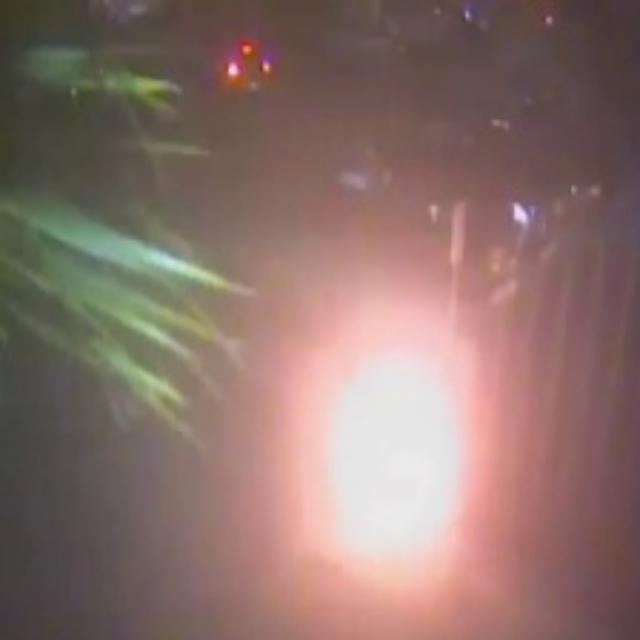fire: (342, 362, 453, 554)
smoke: (262, 0, 640, 262), (2, 428, 254, 628), (528, 274, 640, 616), (254, 294, 282, 634)
